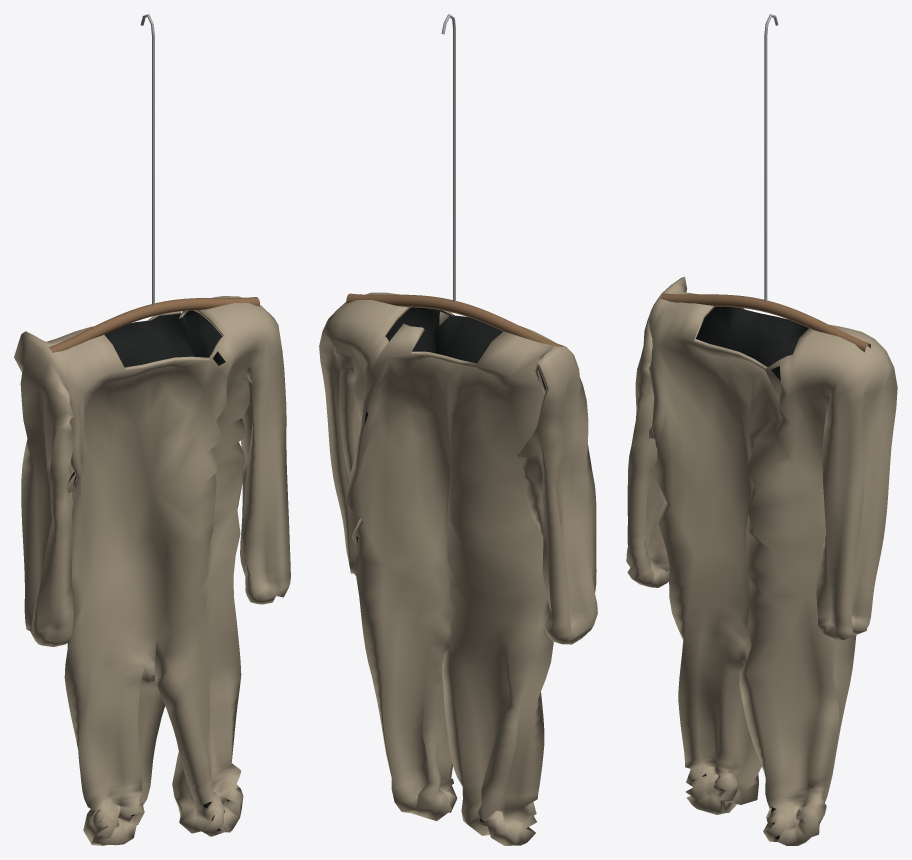
File: hanging-suit-b.glb
The picture shows the model from 3 angles, left to right: view 1: azimuth 30°, elevation 25°; view 2: azimuth 150°, elevation 25°; view 3: azimuth 330°, elevation 25°; orthographic projection. The views are drawn at different scales.
Visible parts, largest first — view 1: Suit, HangerArm, HangerHook; view 2: Suit, HangerArm, HangerHook; view 3: Suit, HangerArm, HangerHook.
Part boxes in pixels (box(x1,y1,x2,y2)): Suit: box(14, 296, 290, 845); HangerArm: box(48, 297, 259, 352); HangerHook: box(140, 14, 154, 305); Suit: box(319, 292, 597, 845); HangerArm: box(346, 293, 562, 346); HangerHook: box(441, 14, 455, 301); Suit: box(626, 276, 897, 845); HangerArm: box(660, 293, 870, 352); HangerHook: box(764, 14, 778, 301).
Size of the model in its own units: 0.8581 by 2.62 by 0.334.
